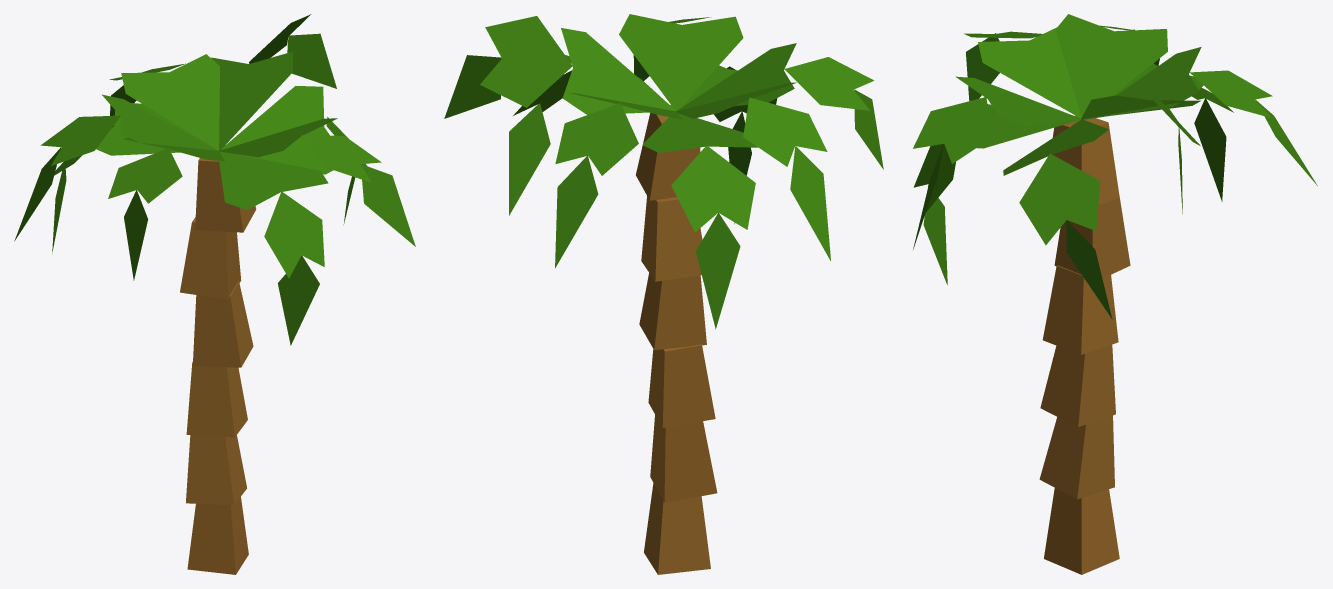
The model's file is Palms_v02.fbx.
3 renders of one model, left to right at view 1: azimuth 30°, elevation 25°; view 2: azimuth 150°, elevation 25°; view 3: azimuth 270°, elevation 25°, orthographic. The views are drawn at different scales.
Parts seen in each view (by area): view 1: Plane_1_8, Plane_7, Plane_2_7, Cylinder_4, Cylinder_3, Cylinder_2, Cylinder_1, Plane_8, Cylinder_5, Plane_2, Cylinder_6, Plane_2_5 (+12 smaller); view 2: Plane_3, Plane_2_8, Plane_2_7, Plane_2_3, Cylinder_3, Cylinder_1, Cylinder_2, Cylinder_4, Cylinder_5, Plane_2_9, Plane_2_4, Plane_4 (+12 smaller); view 3: Plane_5, Cylinder_1, Cylinder_2, Cylinder_3, Cylinder_4, Plane_2_2, Plane_4, Plane_2_6, Cylinder_5, Plane_1_8, Cylinder_6, Plane_3 (+10 smaller).
Boxes of the visible parts, x1,y1,x2,y2 form: Plane_1_8: (121, 54, 219, 150); Plane_7: (221, 86, 333, 174); Plane_2_7: (211, 51, 292, 150); Cylinder_4: (192, 281, 253, 367); Cylinder_3: (186, 362, 247, 437); Cylinder_2: (186, 435, 246, 504); Cylinder_1: (187, 497, 248, 574); Plane_8: (219, 151, 328, 209); Cylinder_5: (180, 217, 241, 299); Plane_2: (264, 191, 324, 278); Cylinder_6: (195, 154, 256, 232); Plane_2_5: (108, 148, 182, 203); Plane_3: (619, 14, 743, 110); Plane_2_8: (480, 16, 572, 107); Plane_2_7: (561, 28, 675, 114); Plane_2_3: (671, 145, 755, 232); Cylinder_3: (648, 344, 715, 427); Cylinder_1: (644, 483, 710, 574); Cylinder_2: (650, 415, 717, 502); Cylinder_4: (639, 273, 706, 350); Cylinder_5: (641, 196, 702, 281); Plane_2_9: (555, 103, 638, 175); Plane_2_4: (743, 97, 827, 166); Plane_4: (676, 43, 796, 111); Plane_5: (1055, 14, 1167, 116); Cylinder_1: (1044, 488, 1119, 574); Cylinder_2: (1039, 415, 1114, 499); Cylinder_3: (1040, 344, 1115, 427); Cylinder_4: (1042, 265, 1118, 354); Plane_2_2: (1019, 153, 1100, 245); Plane_4: (978, 27, 1081, 118); Plane_2_6: (913, 97, 993, 163); Cylinder_5: (1054, 198, 1130, 279); Plane_1_8: (1083, 47, 1201, 119); Cylinder_6: (1052, 115, 1119, 205); Plane_3: (955, 76, 1080, 125).
Size of the model in its own units: 391 by 545 by 379.
